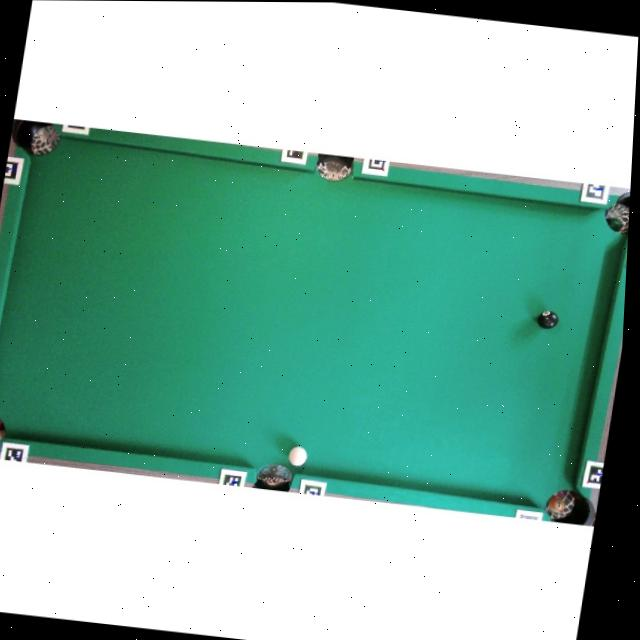cue ball: (286, 445, 308, 467)
other: (536, 308, 560, 329)
